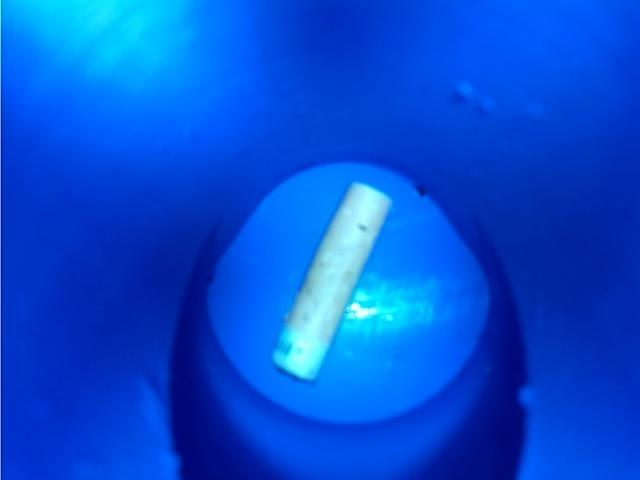megot: (263, 171, 412, 392)
